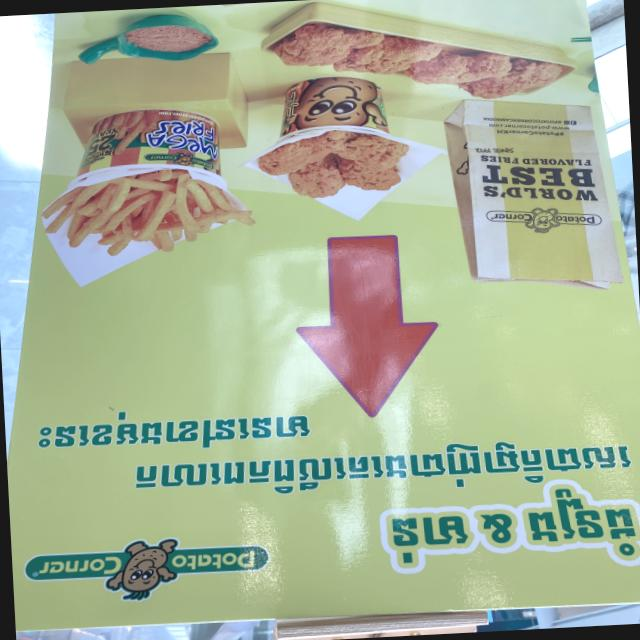2: (372, 474, 640, 578)
Yolov11_80vkh: (120, 433, 633, 504), (35, 407, 315, 457)
